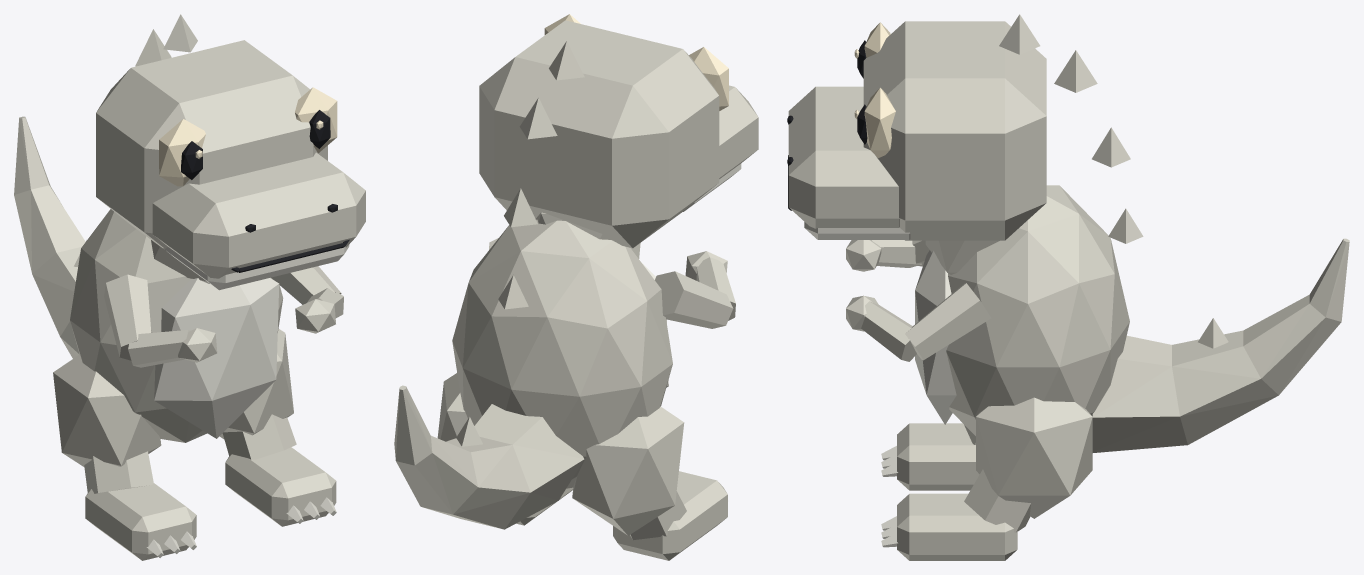
Rendered from Dinosaure_blanc.glb.
3 renders of one model, left to right at view 1: azimuth 30°, elevation 25°; view 2: azimuth 150°, elevation 25°; view 3: azimuth 270°, elevation 25°, orthographic. The views are drawn at different scales.
Visible parts, largest first — view 1: Dinosaure_blanc; view 2: Dinosaure_blanc; view 3: Dinosaure_blanc.
Part boxes in pixels (x1,y1,x2,y2): Dinosaure_blanc: (14,14,365,560); Dinosaure_blanc: (394,14,758,560); Dinosaure_blanc: (787,14,1349,560).
Bounding box in the file's own units: 1.28 × 2.66 × 2.7.
